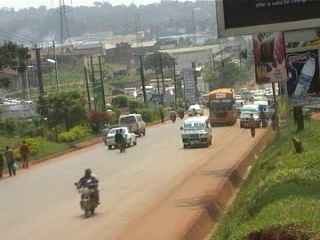Car: (105, 125, 140, 151), (186, 103, 203, 118)
Motorcycle: (72, 176, 105, 220), (113, 131, 127, 154), (100, 124, 111, 145), (169, 110, 177, 122), (178, 108, 185, 119)
